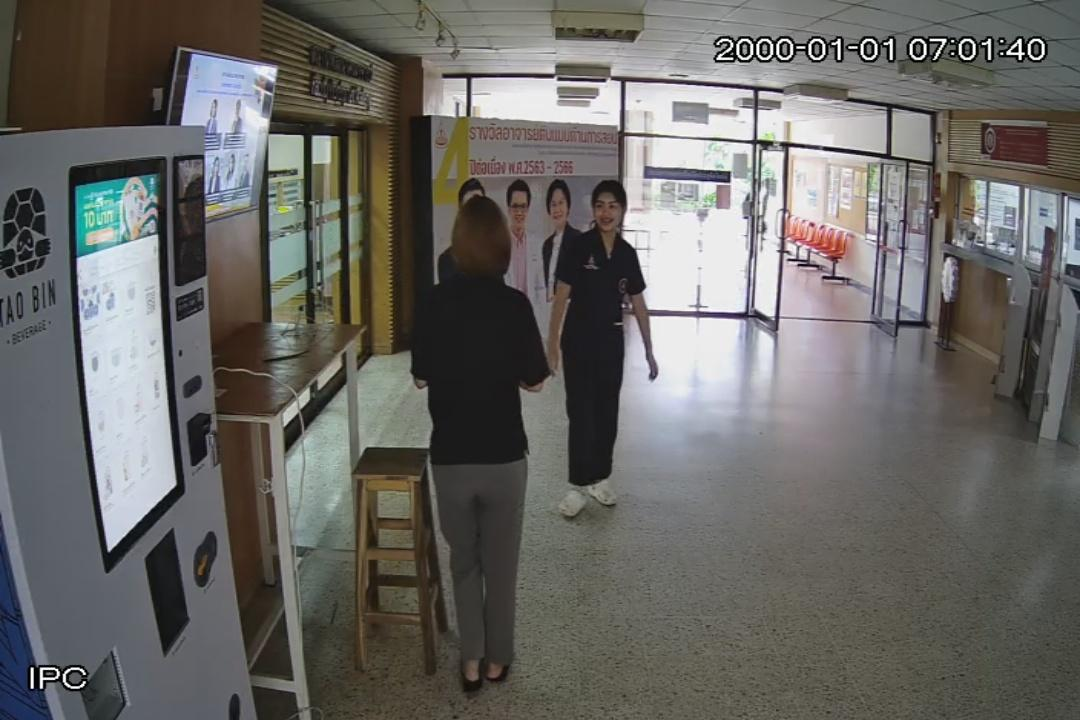normal: (392, 192, 538, 716), (556, 176, 654, 524)
